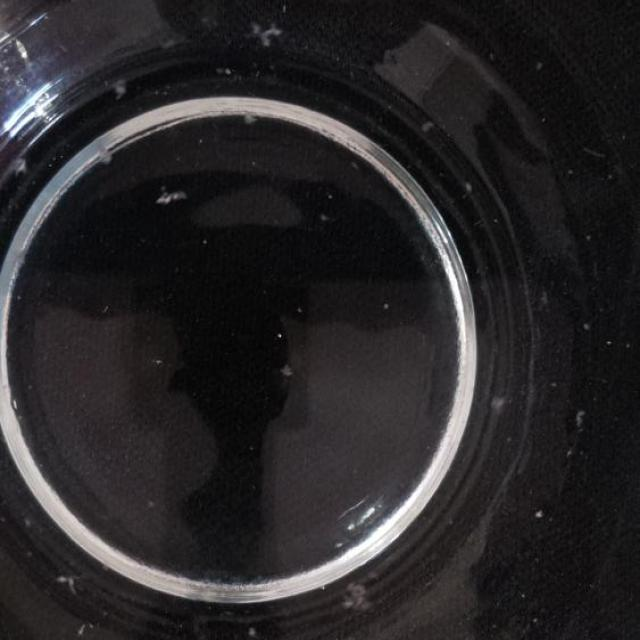fiber: (247, 24, 290, 55), (152, 186, 190, 208), (345, 582, 375, 608), (49, 568, 78, 594), (491, 394, 515, 420), (107, 77, 131, 101), (574, 408, 588, 443), (2, 160, 28, 173), (240, 107, 256, 128), (315, 208, 332, 226), (69, 624, 89, 638), (284, 360, 299, 378), (538, 511, 546, 526)
